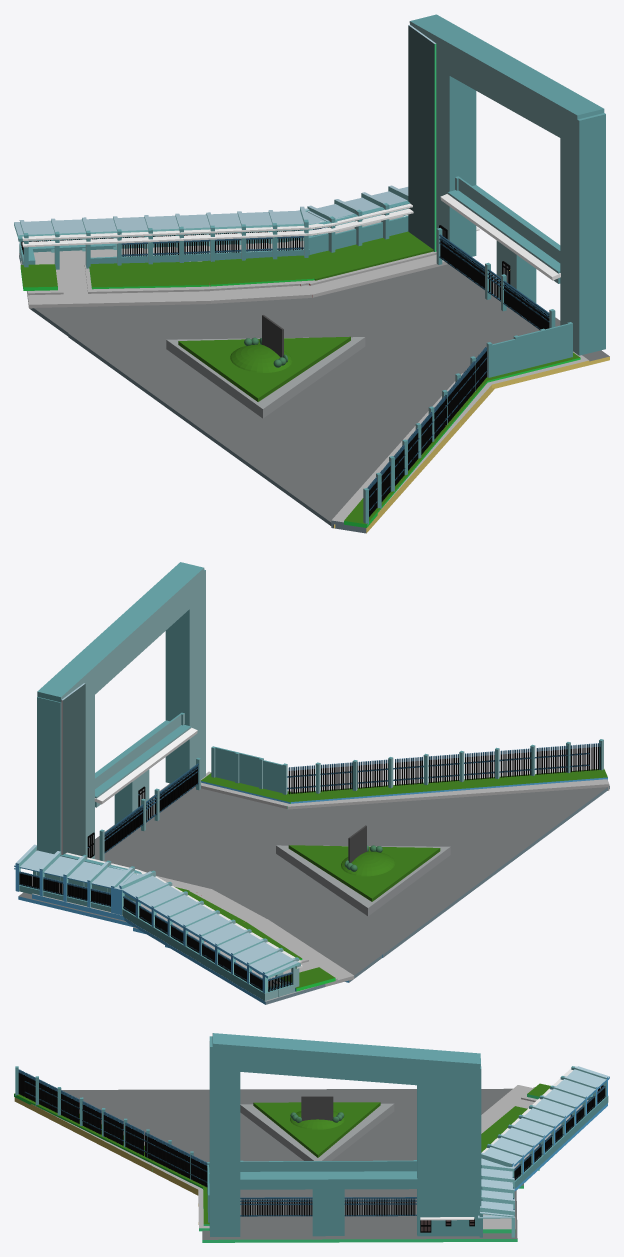
File: FinalGate.glb
The picture shows the model from 3 angles, top to bottom: view 1: azimuth 30°, elevation 25°; view 2: azimuth 150°, elevation 25°; view 3: azimuth 270°, elevation 25°; orthographic projection. The views are drawn at different scales.
Parts seen in each view (by area): view 1: cube.213; view 2: cube.213; view 3: cube.213.
Boxes of the visible parts, x1=… form: cube.213: x1=14, y1=14, x2=609, y2=533; cube.213: x1=14, y1=562, x2=609, y2=1004; cube.213: x1=14, y1=1033, x2=609, y2=1242.
Bounding box in the file's own units: 13.57 × 8.23 × 22.11.
18 materials, 18 textured.
